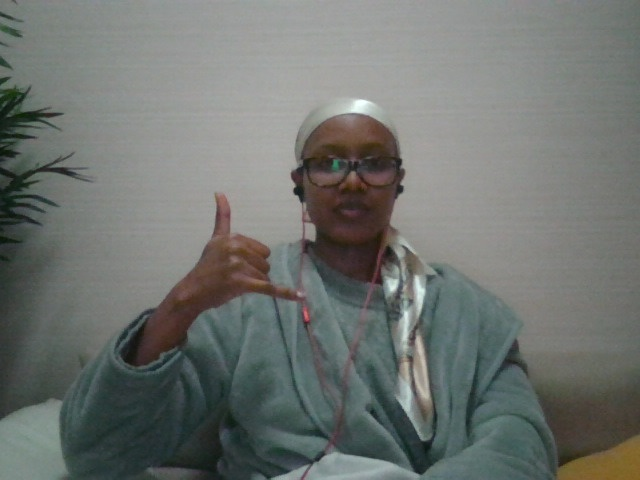callme: (158, 188, 311, 331)
